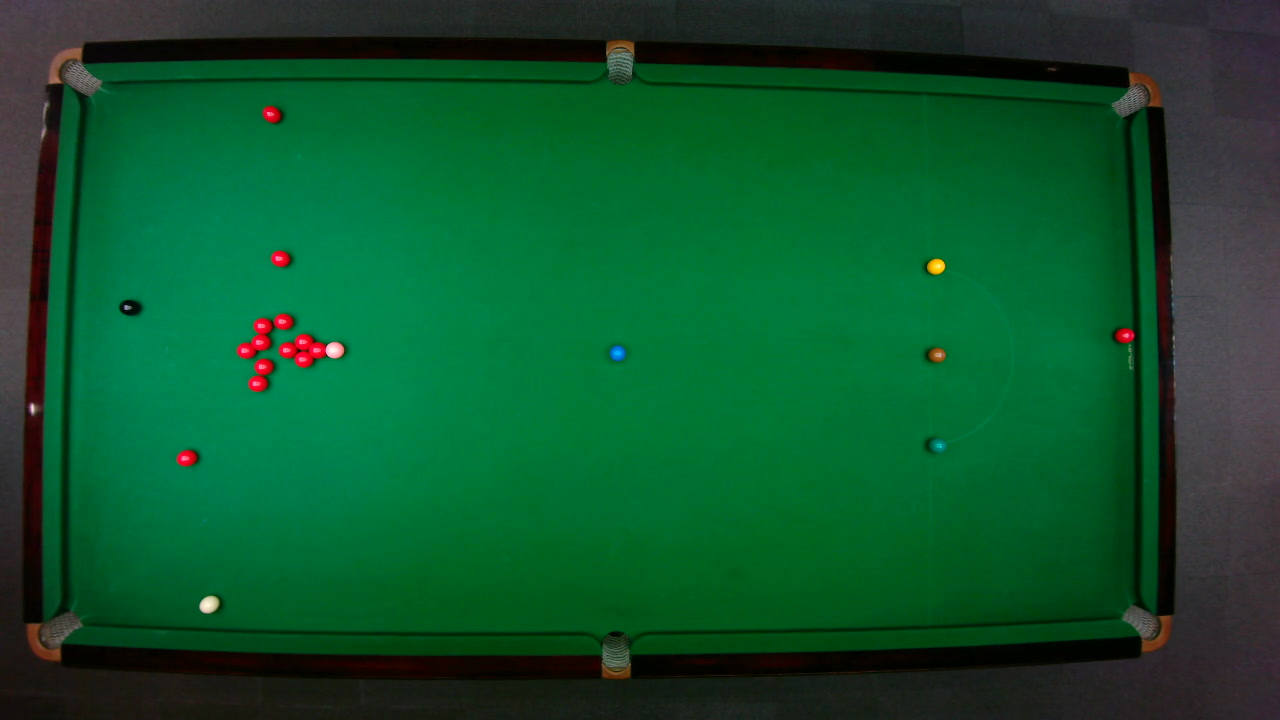bag: (25, 609, 84, 662), (45, 46, 102, 96), (1119, 603, 1172, 652), (1108, 71, 1161, 118), (600, 629, 630, 680), (605, 38, 633, 85)
black: (118, 298, 140, 315)
blue: (608, 344, 626, 361)
brown: (926, 346, 946, 362)
green: (926, 435, 946, 453)
pink: (323, 340, 345, 359)
red: (175, 448, 198, 466), (234, 341, 256, 359), (246, 374, 268, 392), (252, 357, 274, 375), (251, 316, 272, 334), (272, 312, 293, 330), (261, 105, 282, 123), (269, 249, 290, 267), (1113, 326, 1135, 343), (277, 340, 297, 358), (249, 333, 270, 350), (293, 350, 314, 367), (293, 332, 314, 349), (308, 340, 325, 358)
white: (197, 594, 220, 614)
yellow: (925, 257, 946, 274)
zone: (926, 265, 1013, 445)
